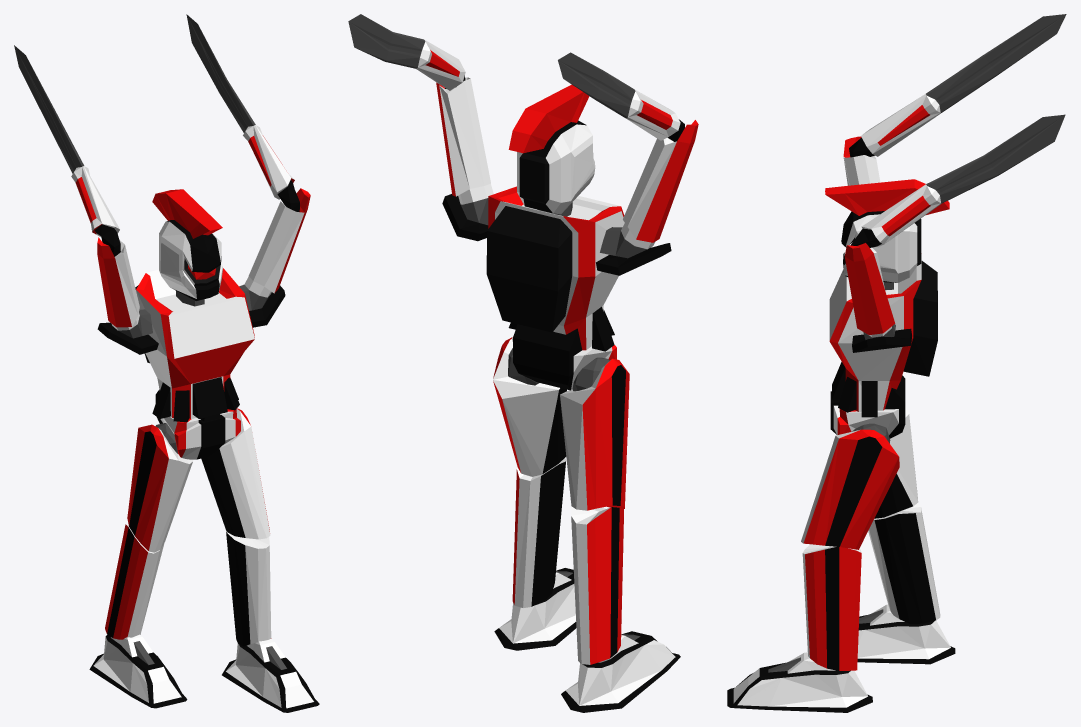
Rendered from robots_000006.obj.
The picture shows the model from 3 angles, left to right: view 1: azimuth 30°, elevation 25°; view 2: azimuth 150°, elevation 25°; view 3: azimuth 270°, elevation 25°; orthographic projection. The views are drawn at different scales.
Parts seen in each view (by area): view 1: Chest_plate_Cube.004, R_Forearm.002_Cube.033, R_Forearm.001_Cube.028, Head_gladiator_Cube.024, R_Thigh_Cube.005, R_Thigh.002_Cube.027, R_Shin.002_Cube.029, R_Foot_Cube, R_Foot.002_Cube.035, R_Shin_Cube.007, Pelvis_Cube.006, R_Arm.002_Cube.032 (+1 smaller); view 2: Chest_plate_Cube.004, R_Forearm.001_Cube.028, R_Thigh_Cube.005, Head_gladiator_Cube.024, R_Forearm.002_Cube.033, R_Shin_Cube.007, R_Shin.002_Cube.029, R_Thigh.002_Cube.027, R_Foot_Cube, Pelvis_Cube.006, R_Foot.002_Cube.035, R_Arm.002_Cube.032 (+2 smaller); view 3: Chest_plate_Cube.004, R_Forearm.002_Cube.033, R_Thigh.002_Cube.027, R_Forearm.001_Cube.028, R_Shin.002_Cube.029, R_Shin_Cube.007, R_Foot.002_Cube.035, Head_gladiator_Cube.024, R_Foot_Cube, R_Thigh_Cube.005, Pelvis_Cube.006, R_Arm.003_Cube.034.
Boxes of the visible parts, x1=… form: Chest_plate_Cube.004: x1=135, y1=268, x2=254, y2=422; R_Forearm.002_Cube.033: x1=186, y1=14, x2=310, y2=293; R_Forearm.001_Cube.028: x1=14, y1=45, x2=139, y2=327; Head_gladiator_Cube.024: x1=152, y1=189, x2=222, y2=300; R_Thigh_Cube.005: x1=127, y1=424, x2=193, y2=552; R_Thigh.002_Cube.027: x1=201, y1=408, x2=270, y2=539; R_Shin.002_Cube.029: x1=226, y1=531, x2=271, y2=646; R_Foot_Cube: x1=89, y1=634, x2=187, y2=708; R_Foot.002_Cube.035: x1=222, y1=639, x2=319, y2=712; R_Shin_Cube.007: x1=105, y1=524, x2=164, y2=639; Pelvis_Cube.006: x1=155, y1=389, x2=240, y2=459; R_Arm.002_Cube.032: x1=97, y1=309, x2=158, y2=354; Chest_plate_Cube.004: x1=486, y1=186, x2=624, y2=351; R_Forearm.001_Cube.028: x1=558, y1=52, x2=698, y2=242; R_Thigh_Cube.005: x1=560, y1=358, x2=629, y2=510; Head_gladiator_Cube.024: x1=508, y1=84, x2=595, y2=214; R_Forearm.002_Cube.033: x1=348, y1=14, x2=490, y2=196; R_Shin_Cube.007: x1=571, y1=506, x2=623, y2=664; R_Shin.002_Cube.029: x1=512, y1=458, x2=565, y2=607; R_Thigh.002_Cube.027: x1=493, y1=337, x2=566, y2=476; R_Foot_Cube: x1=561, y1=631, x2=680, y2=712; Pelvis_Cube.006: x1=512, y1=324, x2=616, y2=390; R_Foot.002_Cube.035: x1=494, y1=568, x2=576, y2=650; R_Arm.002_Cube.032: x1=596, y1=223, x2=671, y2=275; Chest_plate_Cube.004: x1=829, y1=253, x2=937, y2=417; R_Forearm.002_Cube.033: x1=844, y1=114, x2=1065, y2=334; R_Thigh.002_Cube.027: x1=801, y1=429, x2=899, y2=549; R_Forearm.001_Cube.028: x1=843, y1=14, x2=1066, y2=185; R_Shin.002_Cube.029: x1=802, y1=544, x2=861, y2=670; R_Shin_Cube.007: x1=868, y1=503, x2=940, y2=623; R_Foot.002_Cube.035: x1=727, y1=652, x2=872, y2=712; Head_gladiator_Cube.024: x1=825, y1=179, x2=949, y2=282; R_Foot_Cube: x1=857, y1=604, x2=955, y2=664; R_Thigh_Cube.005: x1=874, y1=406, x2=918, y2=518; Pelvis_Cube.006: x1=830, y1=375, x2=905, y2=438; R_Arm.003_Cube.034: x1=852, y1=324, x2=911, y2=352.
Bounding box in the file's own units: 1.51 × 3.96 × 1.97.
